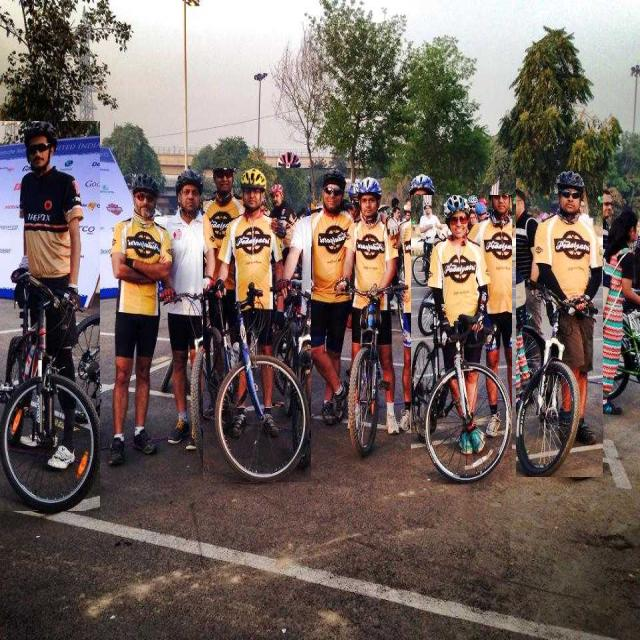bicycle: (0, 121, 100, 511), (203, 169, 310, 482), (411, 195, 511, 482), (516, 171, 602, 477), (160, 168, 239, 467), (336, 177, 399, 455)
